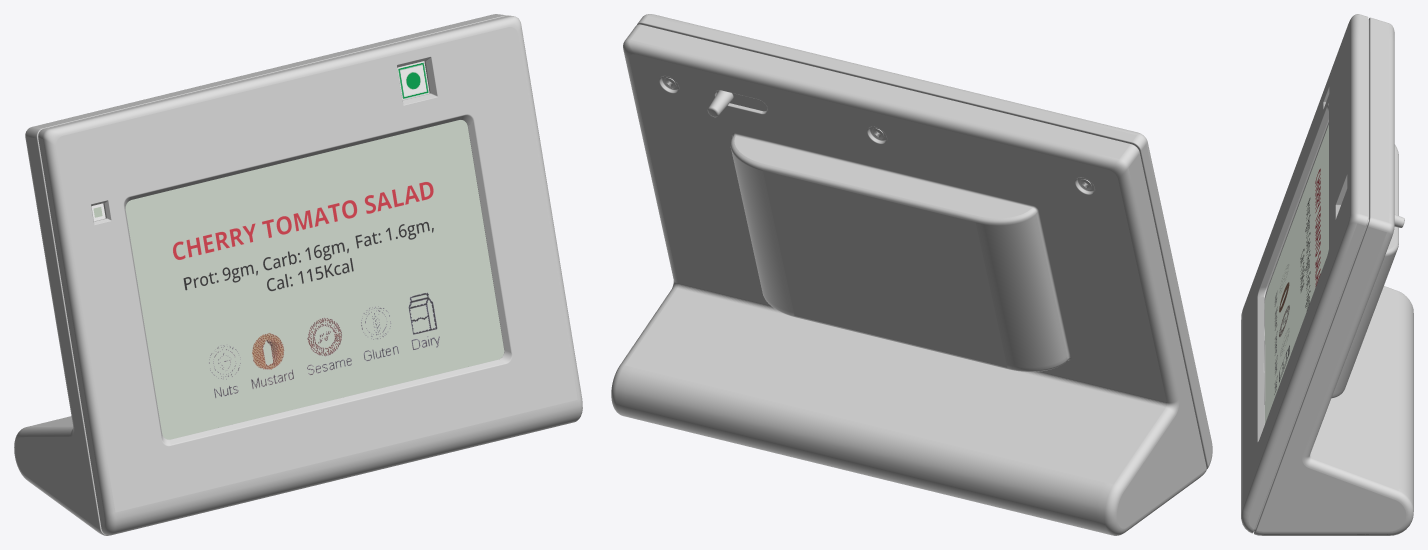
File: esl_2.glb
3 views of the same model, side by side, from view 1: azimuth 30°, elevation 25°; view 2: azimuth 150°, elevation 25°; view 3: azimuth 270°, elevation 25° (orthographic). The views are drawn at different scales.
Parts seen in each view (by area): view 1: frame, glass, screen, screen_content, toggle_2; view 2: frame, toggle; view 3: frame, glass, screen, screen_content.
Part boxes in pixels (<box>): frame: <box>14,14,582,535</box>; glass: <box>126,120,503,439</box>; screen: <box>125,120,504,439</box>; screen_content: <box>173,181,439,398</box>; toggle_2: <box>397,61,429,99</box>; frame: <box>611,14,1212,535</box>; toggle: <box>707,90,767,117</box>; frame: <box>1241,14,1413,535</box>; glass: <box>1264,123,1328,424</box>; screen: <box>1264,125,1328,423</box>; screen_content: <box>1274,168,1320,394</box>.
Bounding box in the file's own units: 0.108 × 0.08 × 0.0384.
Materials: 8 (2 with a texture image).
